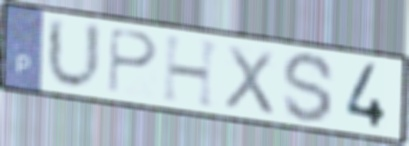4: (343, 59, 389, 132)
H: (160, 33, 224, 111)
P: (106, 25, 161, 96)
S: (281, 50, 338, 126)
U: (44, 14, 105, 94)
X: (221, 41, 276, 118)
